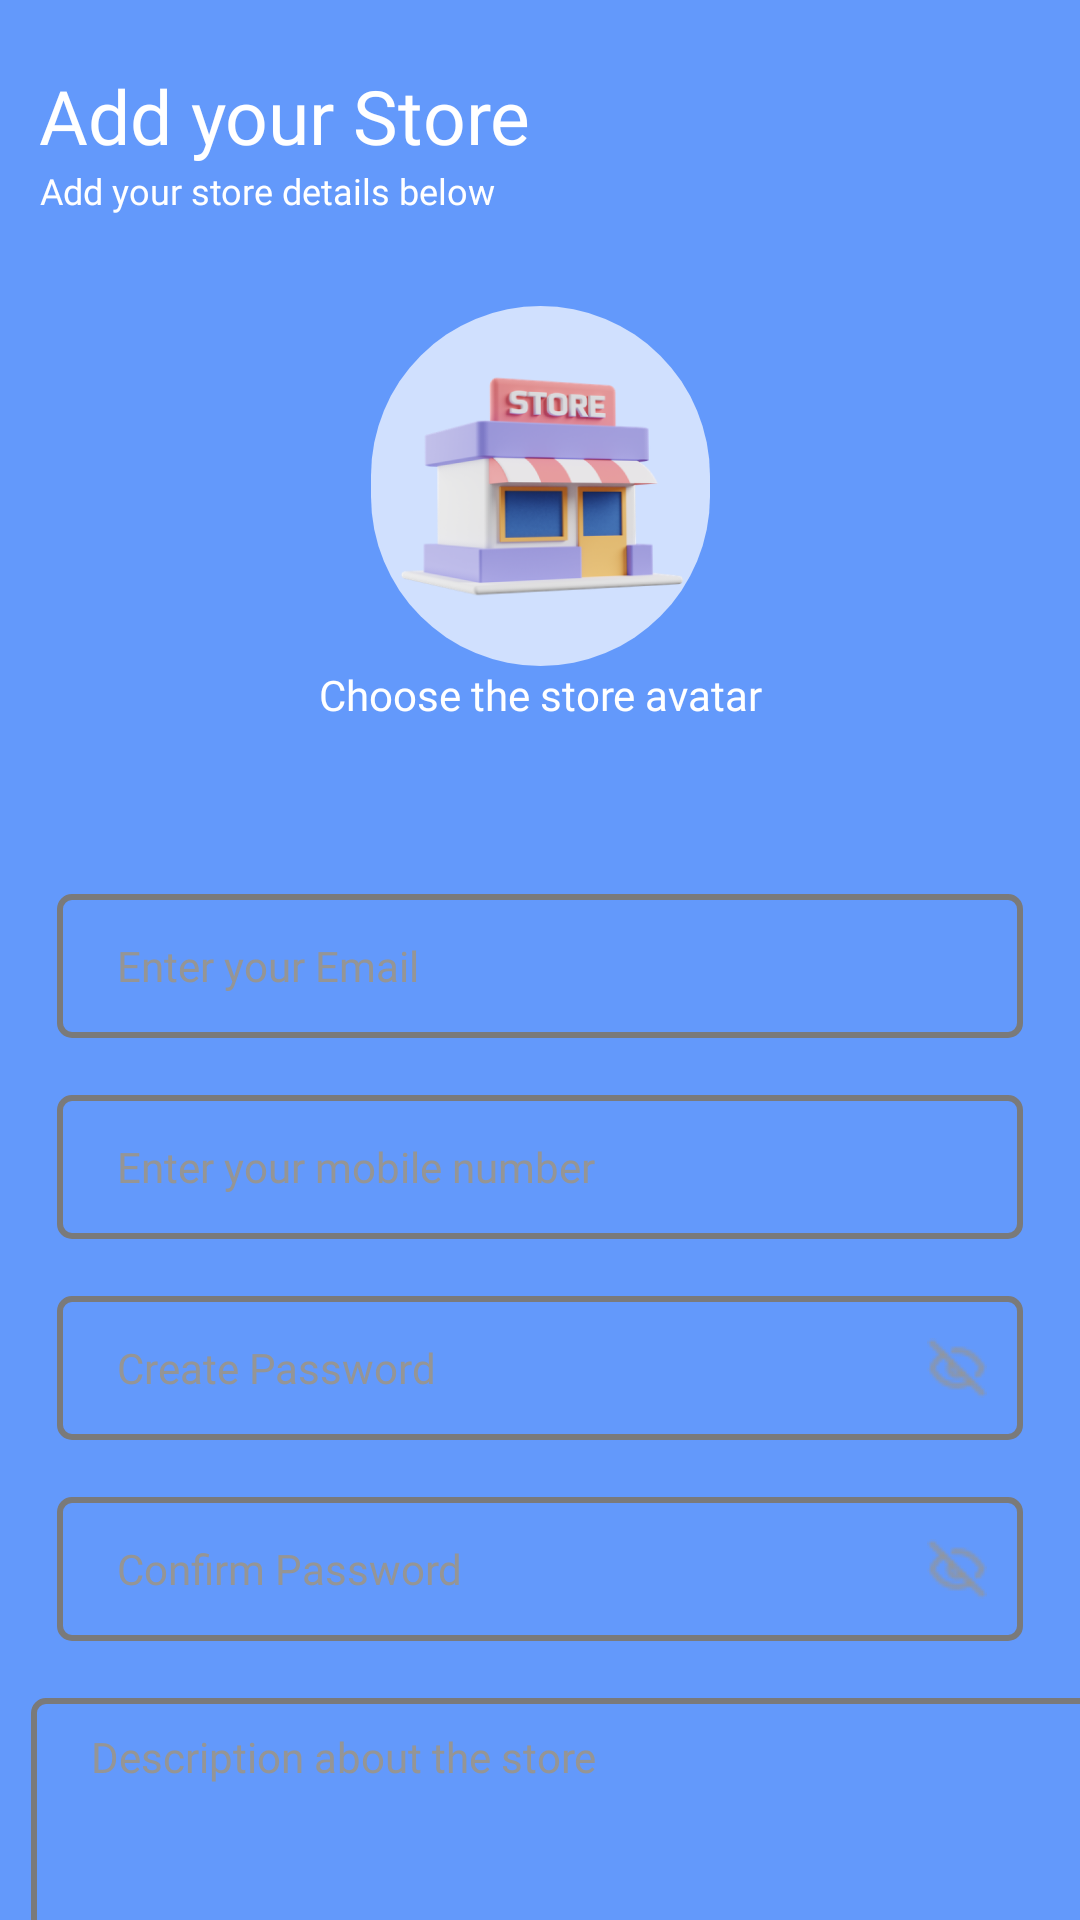

Named icons in this screenshot (1080×1920) and their centers, point (x, y):
eyeoff: point (957, 1368), point (957, 1569)
